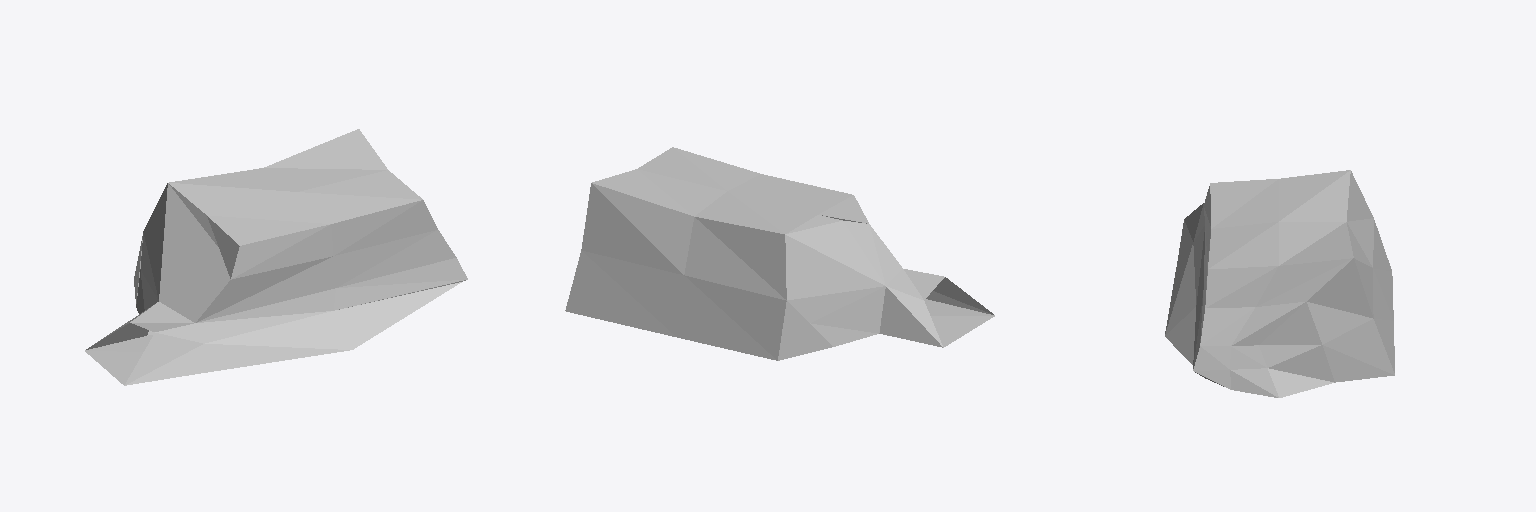
File: island_2.obj
3 views of the same model, side by side, from view 1: azimuth 30°, elevation 25°; view 2: azimuth 150°, elevation 25°; view 3: azimuth 270°, elevation 25° (orthographic).
Parts seen in each view (by area): view 1: Cube.001; view 2: Cube.001; view 3: Cube.001.
Part boxes in pixels (left/top/right/bottom): Cube.001: left=85, top=129, right=467, bottom=385; Cube.001: left=565, top=147, right=994, bottom=360; Cube.001: left=1165, top=170, right=1394, bottom=397.
Size of the model in its own units: 41.91 by 14.73 by 23.29.